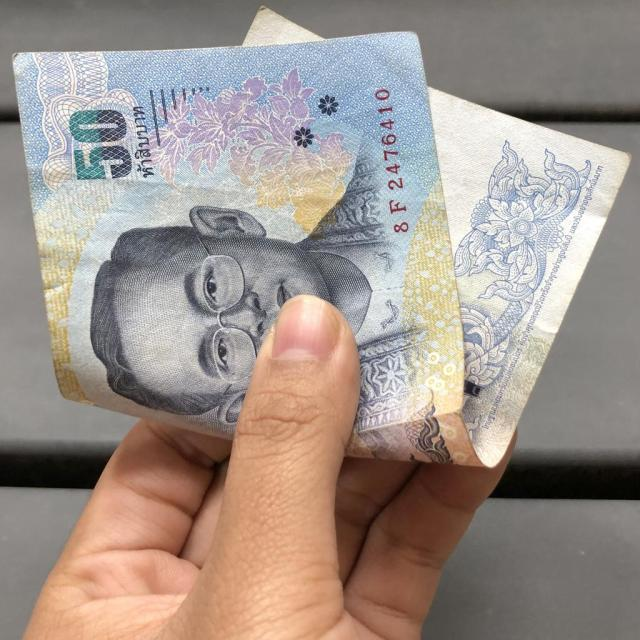THAI50: (13, 9, 628, 466)
